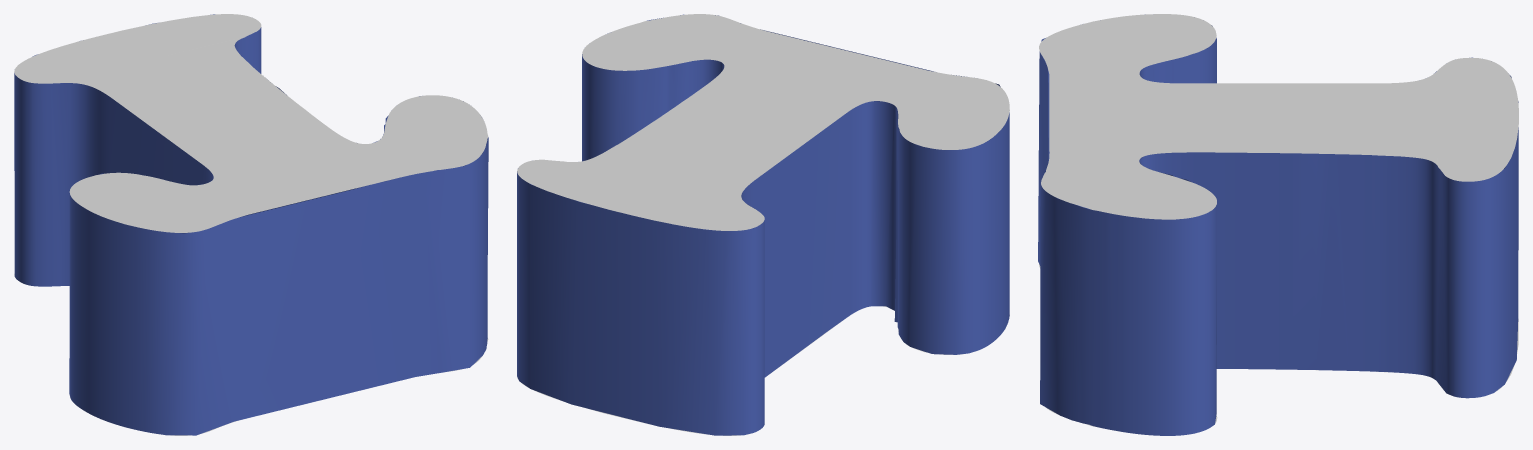
The picture shows the model from 3 angles, left to right: view 1: azimuth 30°, elevation 25°; view 2: azimuth 150°, elevation 25°; view 3: azimuth 270°, elevation 25°; orthographic projection. The views are drawn at different scales.
Visible parts, largest first — view 1: T; view 2: T; view 3: T.
Boxes of the visible parts, x1,y1,x2,y2 form: T: (14,14,488,435); T: (517,14,1009,435); T: (1038,14,1518,435).
Bounding box in the file's own units: 1.5 × 0.736 × 1.48.
